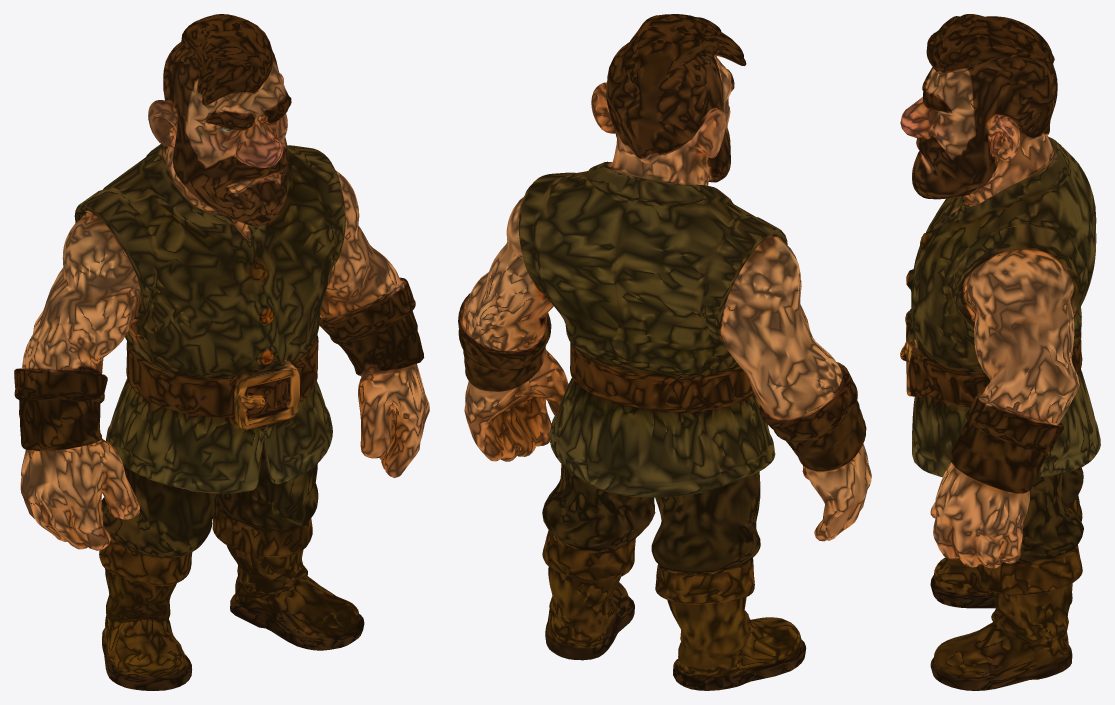
The model's file is linorex_LOD1.obj.
3 renders of one model, left to right at view 1: azimuth 30°, elevation 25°; view 2: azimuth 150°, elevation 25°; view 3: azimuth 270°, elevation 25°, orthographic. The views are drawn at different scales.
Parts seen in each view (by area): view 1: LOD1; view 2: LOD1; view 3: LOD1.
Part boxes in pixels (left/top/right/bottom): LOD1: left=14, top=14, right=429, bottom=690; LOD1: left=458, top=14, right=871, bottom=690; LOD1: left=900, top=14, right=1100, bottom=690.
Bounding box in the file's own units: 0.7358 × 1.12 × 0.3309.
